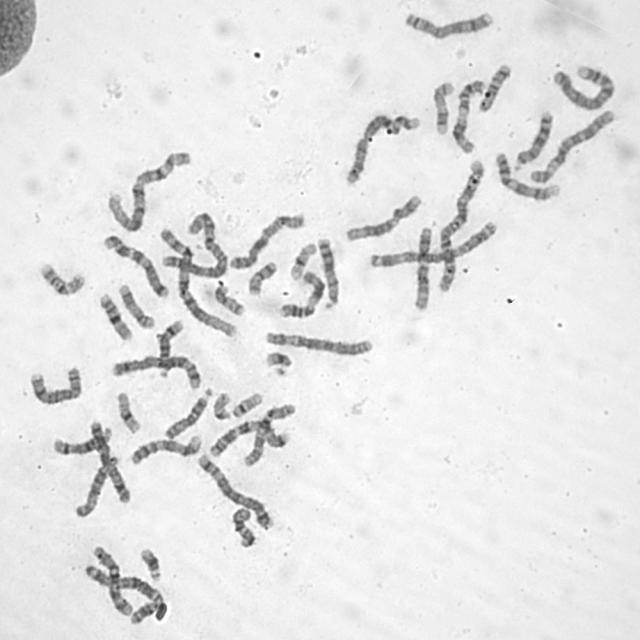A1: (159, 221, 240, 341), (103, 146, 193, 234)
A2: (434, 155, 487, 295), (157, 209, 230, 280)
A3: (364, 217, 499, 270), (81, 559, 167, 626)
B4: (340, 108, 422, 187), (548, 61, 618, 112)
B5: (193, 450, 276, 532), (108, 352, 204, 392)
C10: (240, 399, 298, 468), (89, 541, 134, 618)
C11: (448, 76, 487, 155), (276, 267, 326, 320)
C12: (341, 190, 424, 243), (410, 221, 435, 312)
C6: (525, 106, 617, 186), (261, 326, 375, 358)
C7: (98, 231, 171, 300), (205, 416, 293, 459)
C8: (400, 5, 495, 41), (26, 362, 83, 407)
C9: (491, 148, 562, 202), (126, 431, 204, 466)
D13: (509, 106, 555, 173), (314, 233, 341, 311)
D14: (49, 425, 114, 457), (154, 315, 186, 379)
D15: (71, 450, 122, 519), (161, 386, 213, 442)
E16: (35, 258, 88, 298), (95, 289, 134, 342)
E17: (115, 280, 156, 331), (428, 77, 456, 136)
E18: (474, 59, 513, 114), (228, 503, 257, 549)
F19: (113, 388, 143, 435), (286, 238, 318, 282)
F20: (245, 257, 279, 297), (210, 282, 246, 318)
G21: (136, 544, 164, 582), (261, 348, 294, 377)
G22: (228, 389, 264, 419), (209, 388, 233, 422)
X: (226, 208, 306, 272), (86, 415, 134, 505)
